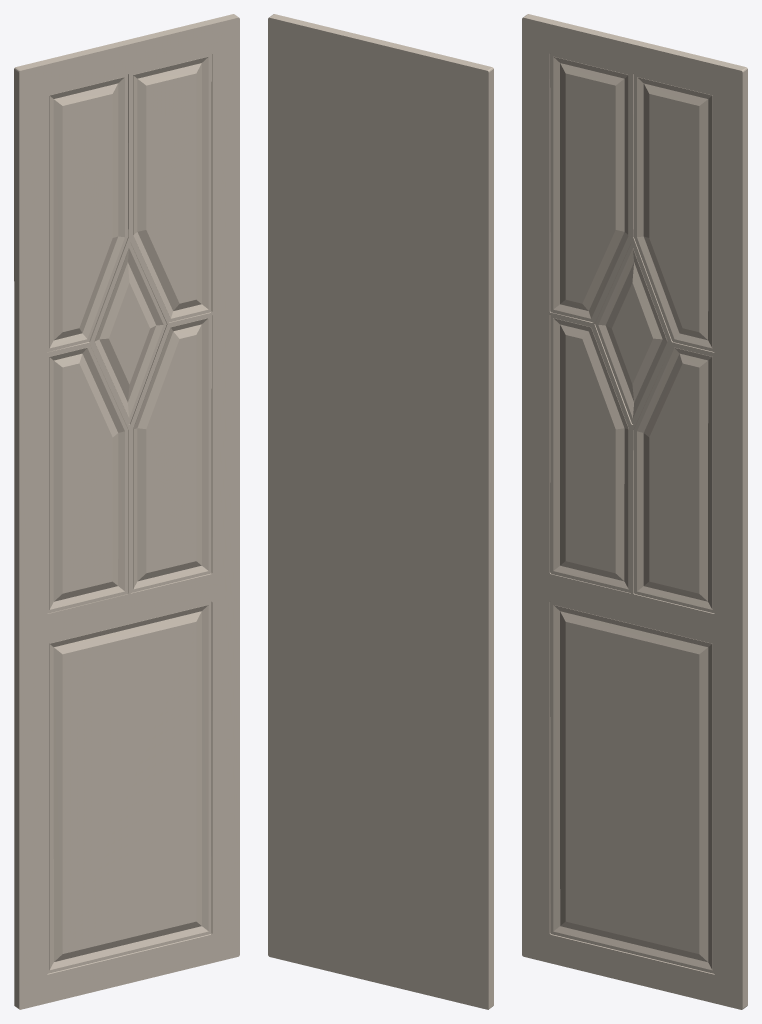
The model's file is NRD BOY KPK 08.glb.
The picture shows the model from 3 angles, left to right: view 1: azimuth 30°, elevation 25°; view 2: azimuth 150°, elevation 25°; view 3: azimuth 330°, elevation 25°; orthographic projection.
Parts seen in each view (by area): view 1: NRD BOY KPK 08; view 2: NRD BOY KPK 08; view 3: NRD BOY KPK 08.
Boxes of the visible parts, x1,y1,x2,y2 form: NRD BOY KPK 08: (14,14,239,1009); NRD BOY KPK 08: (268,14,493,1009); NRD BOY KPK 08: (522,14,747,1009).
Bounding box in the file's own units: 0.4549 × 1.85 × 0.018.
